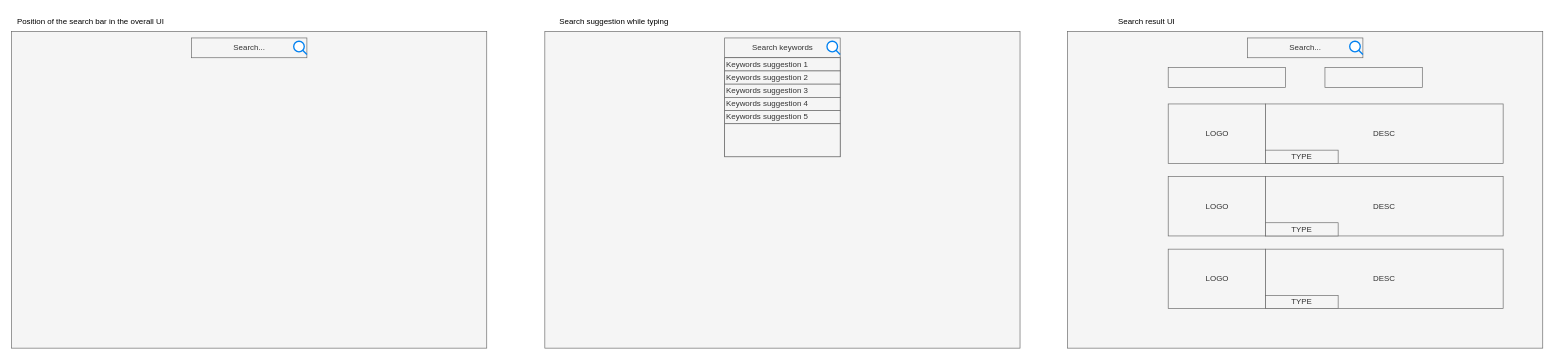
Image size: 1554x360. Some labels were removed from this diagram. Each missing label, with the box of its shape:
Date : from ... to ...: (1324, 67, 1422, 87)
Show only ... type (dropdown): (1168, 67, 1285, 87)
Suggestions based on what (all) the users previously wrote: (724, 123, 840, 157)
